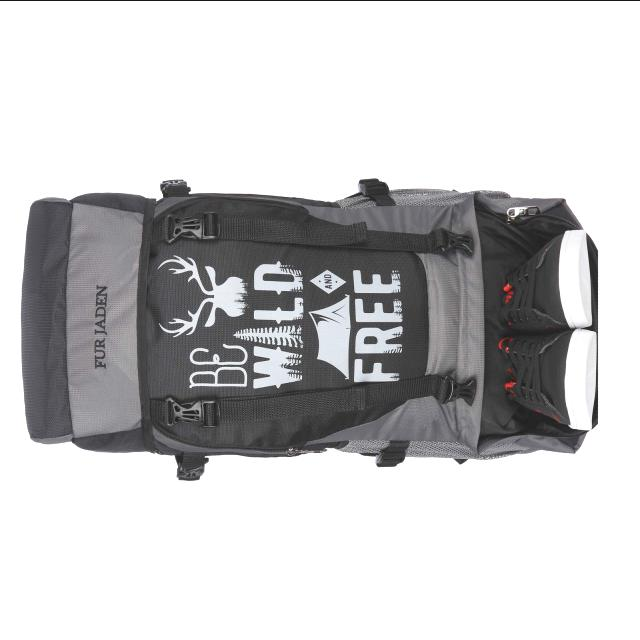backpack: (22, 179, 600, 481)
